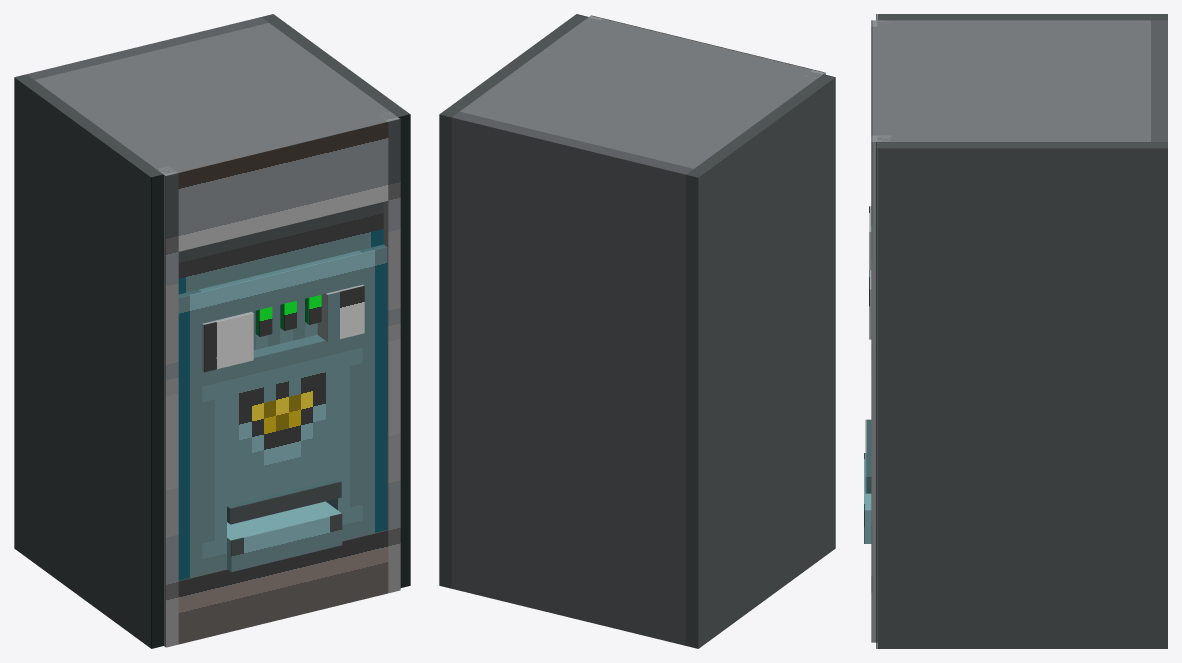
File: CMU3DVendorIngredientsCloud.glb
The picture shows the model from 3 angles, left to right: view 1: azimuth 30°, elevation 25°; view 2: azimuth 150°, elevation 25°; view 3: azimuth 270°, elevation 25°; orthographic projection. The views are drawn at different scales.
Parts seen in each view (by area): view 1: left full-depth cabinet side, roof, blue door with original ingredient emblem original face, blank upper metal sign original face, lower plinth original face, header shadow and separator original face, blue door right stile original face, blue door left stile original face, left silver face rail original face, right silver face rail original face, left full-depth cabinet side original face, blue control header original face (+16 smaller); view 2: rear shell, left full-depth cabinet side, roof, right full-depth cabinet side, blank upper metal sign; view 3: right full-depth cabinet side, roof, right silver face rail, blank upper metal sign, rear shell, left full-depth cabinet side, right silver face rail original face, right full-depth cabinet side original face, pickup upper rim.
Boxes of the visible parts, x1=… form: left full-depth cabinet side: x1=14, y1=74, x2=162, y2=648; roof: x1=35, y1=23, x2=397, y2=173; blue door with original ingredient emblem original face: x1=202, y1=334, x2=362, y2=511; blank upper metal sign original face: x1=178, y1=122, x2=388, y2=251; lower plinth original face: x1=178, y1=530, x2=388, y2=644; header shadow and separator original face: x1=178, y1=202, x2=383, y2=294; blue door right stile original face: x1=362, y1=247, x2=387, y2=535; blue door left stile original face: x1=178, y1=292, x2=202, y2=580; left silver face rail original face: x1=165, y1=173, x2=178, y2=647; right silver face rail original face: x1=388, y1=119, x2=400, y2=593; left full-depth cabinet side original face: x1=151, y1=174, x2=163, y2=648; blue control header original face: x1=202, y1=253, x2=362, y2=323; rear shell: x1=451, y1=111, x2=693, y2=645; left full-depth cabinet side: x1=686, y1=74, x2=835, y2=648; roof: x1=460, y1=17, x2=822, y2=168; right full-depth cabinet side: x1=439, y1=14, x2=587, y2=588; blank upper metal sign: x1=601, y1=18, x2=812, y2=79; right full-depth cabinet side: x1=877, y1=142, x2=1167, y2=648; roof: x1=877, y1=20, x2=1150, y2=141; right silver face rail: x1=872, y1=135, x2=891, y2=642; blank upper metal sign: x1=872, y1=26, x2=906, y2=135; rear shell: x1=1151, y1=20, x2=1167, y2=141; left full-depth cabinet side: x1=877, y1=14, x2=1167, y2=20; right silver face rail original face: x1=871, y1=135, x2=872, y2=642; right full-depth cabinet side original face: x1=876, y1=142, x2=876, y2=648; pickup upper rim: x1=866, y1=419, x2=871, y2=493.
Size of the model in its own units: 0.6562 by 1.14 by 0.627.
Materials: 35 (18 with a texture image).
